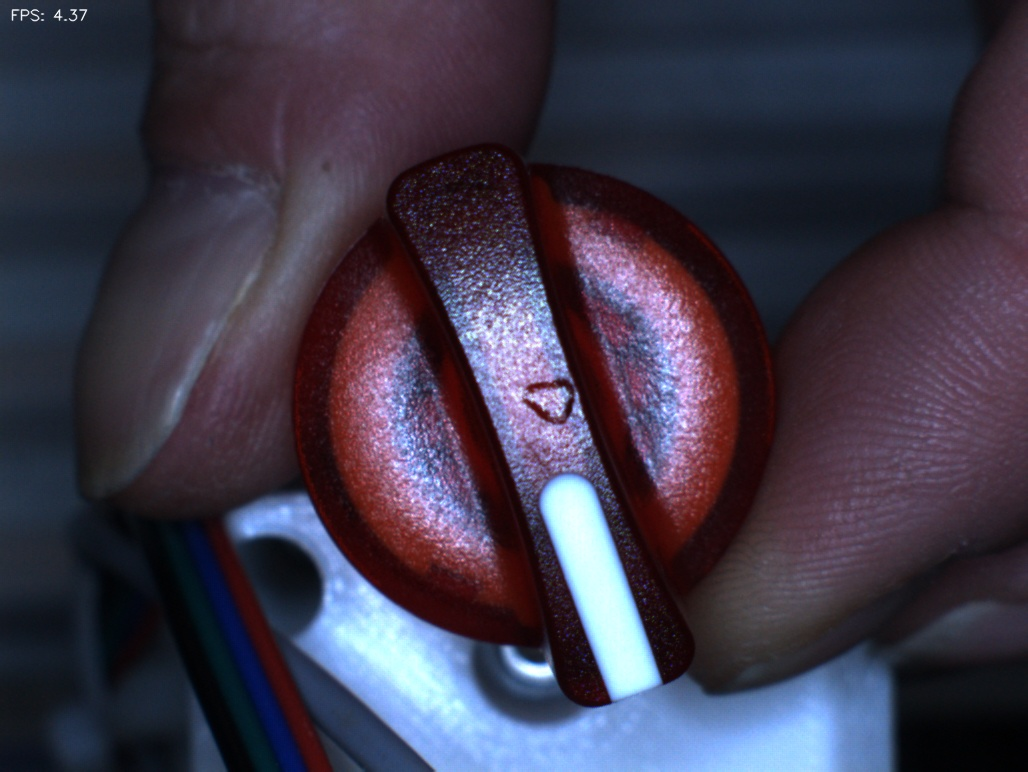Choc: (506, 355, 595, 444)
